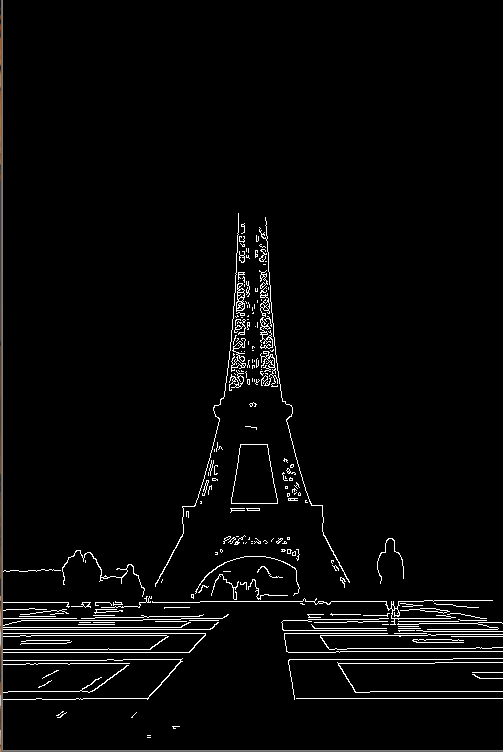eiffel tower: (148, 180, 351, 599)
